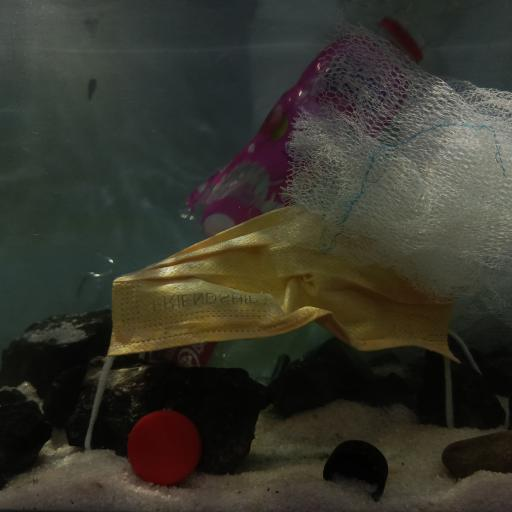bottle_cap: (127, 408, 202, 485), (322, 437, 388, 502)
mask: (101, 198, 465, 373)
net: (285, 19, 512, 325)
plastic_bottle: (172, 14, 434, 234), (71, 248, 287, 381)
